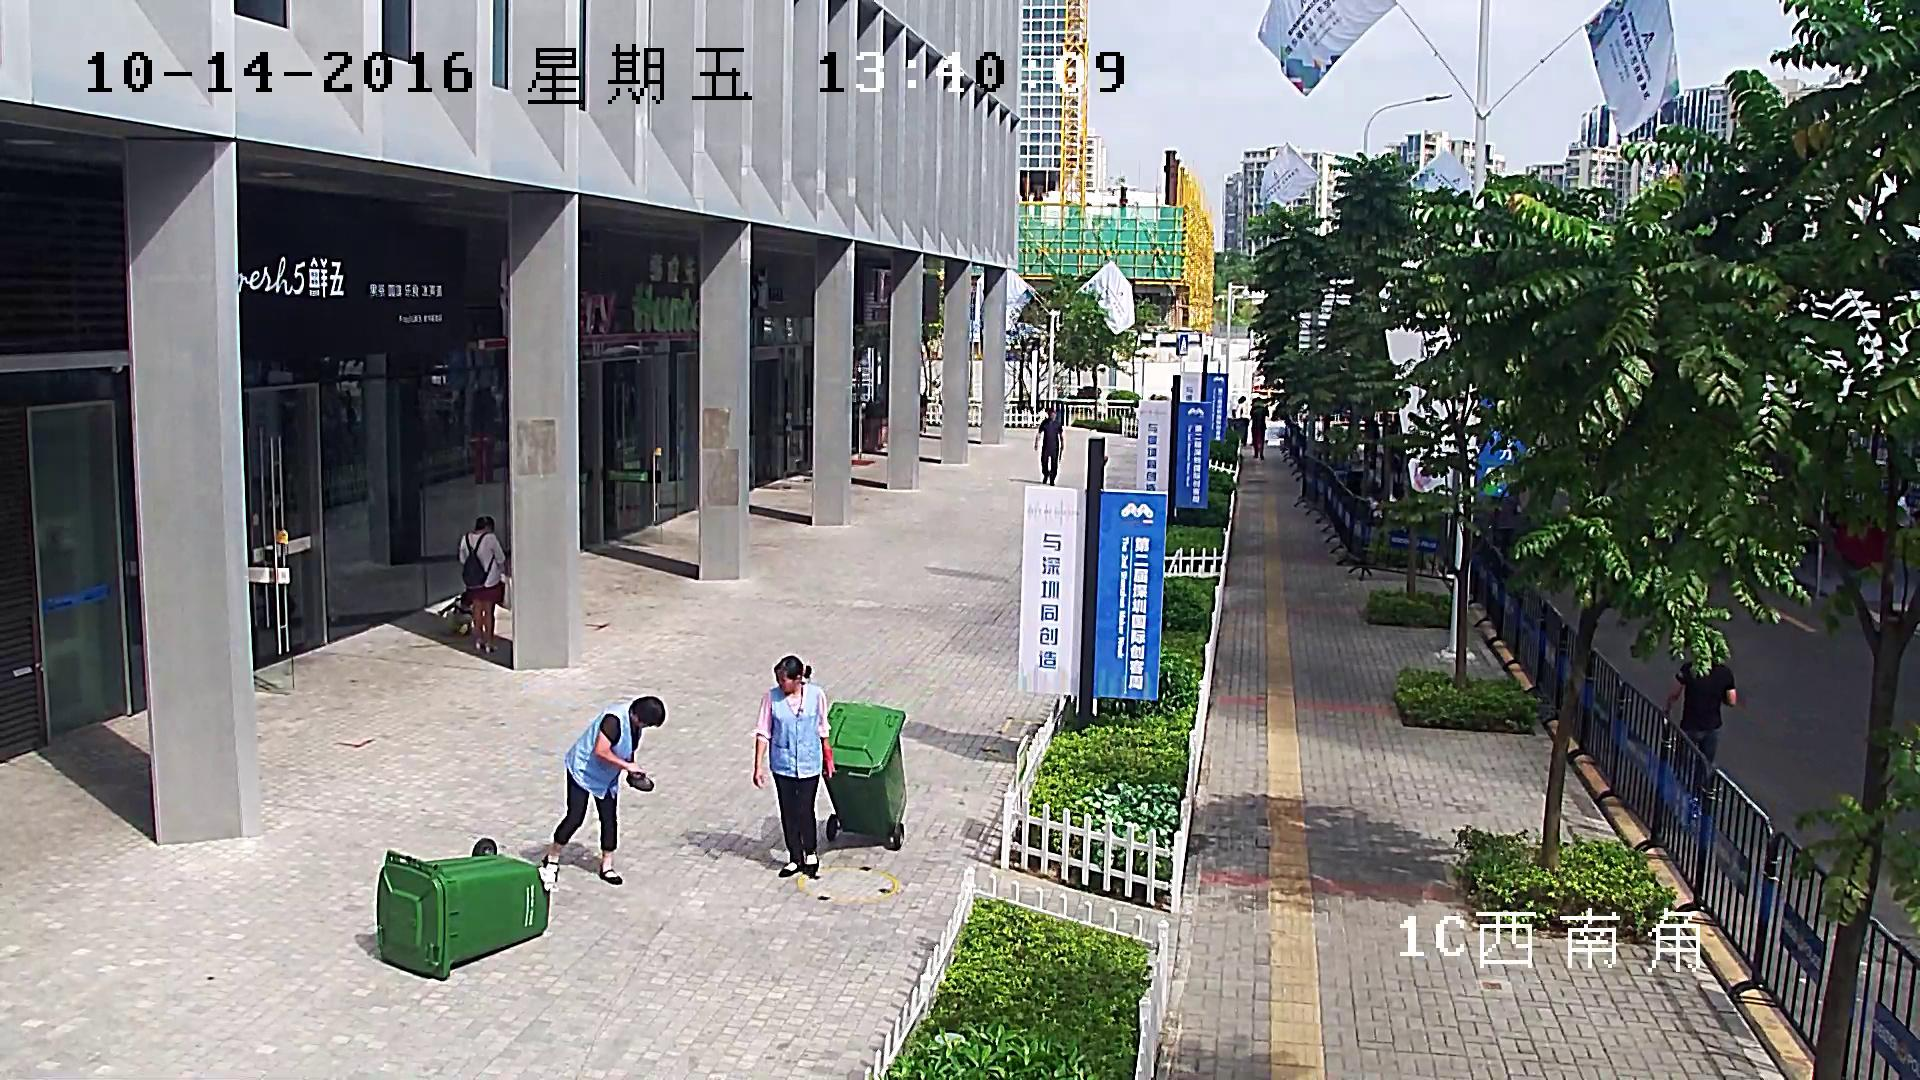person: (754, 654, 907, 878), (541, 695, 666, 885), (752, 655, 833, 877), (1664, 661, 1736, 797), (457, 515, 504, 652), (1034, 407, 1064, 486), (440, 592, 474, 639), (1250, 397, 1268, 461)
